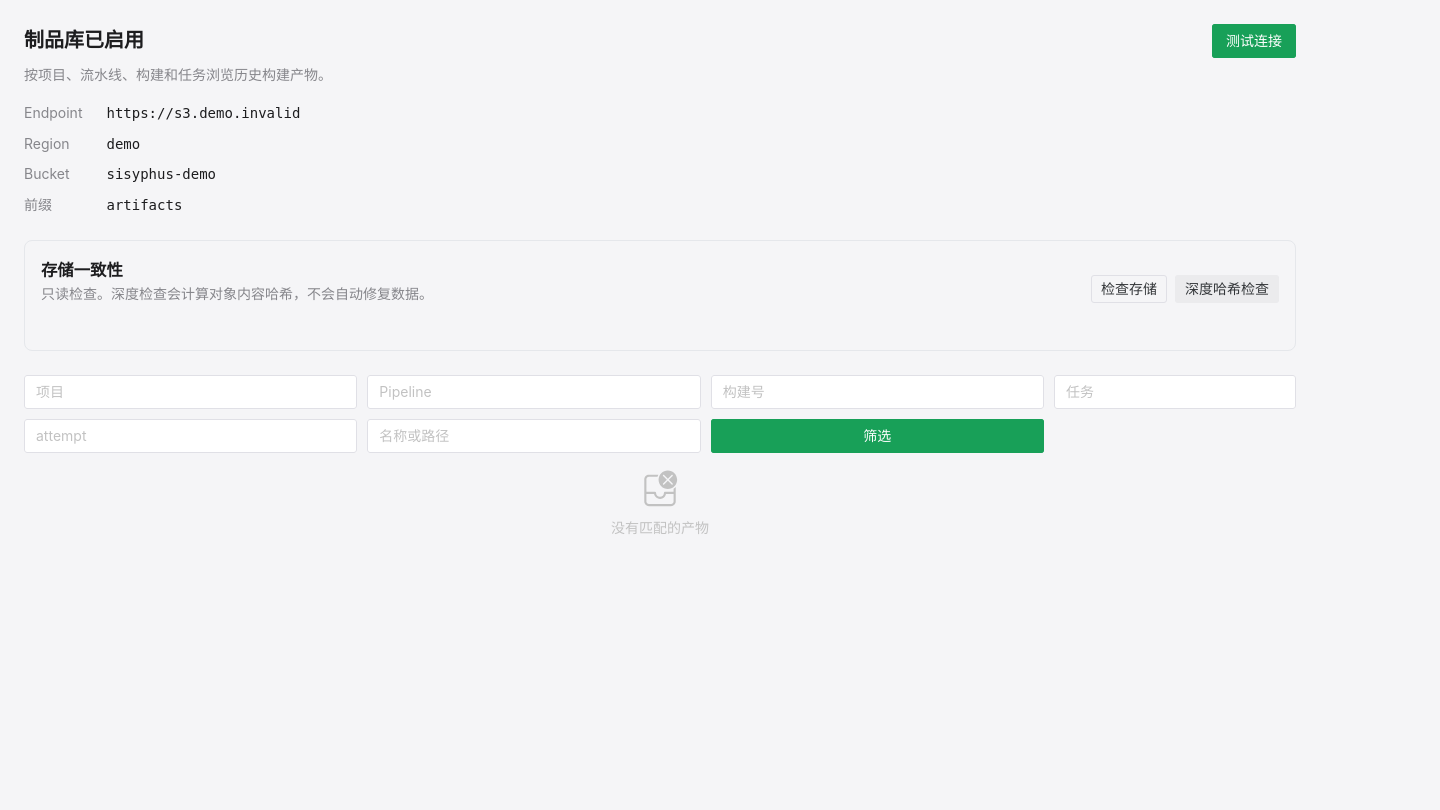
Test case: ArtifactRepositoryView 存储一致性检查（票 #143） › 检查失败时页面展示后端错误信息
The width and height of the screenshot is (1440, 810).
Expected: the element with test id "storage-consistency" is shown, left=24, top=240, right=1296, bottom=351
Click the button "检查存储" at [1129, 289], box left=1091, top=275, right=1167, bottom=303
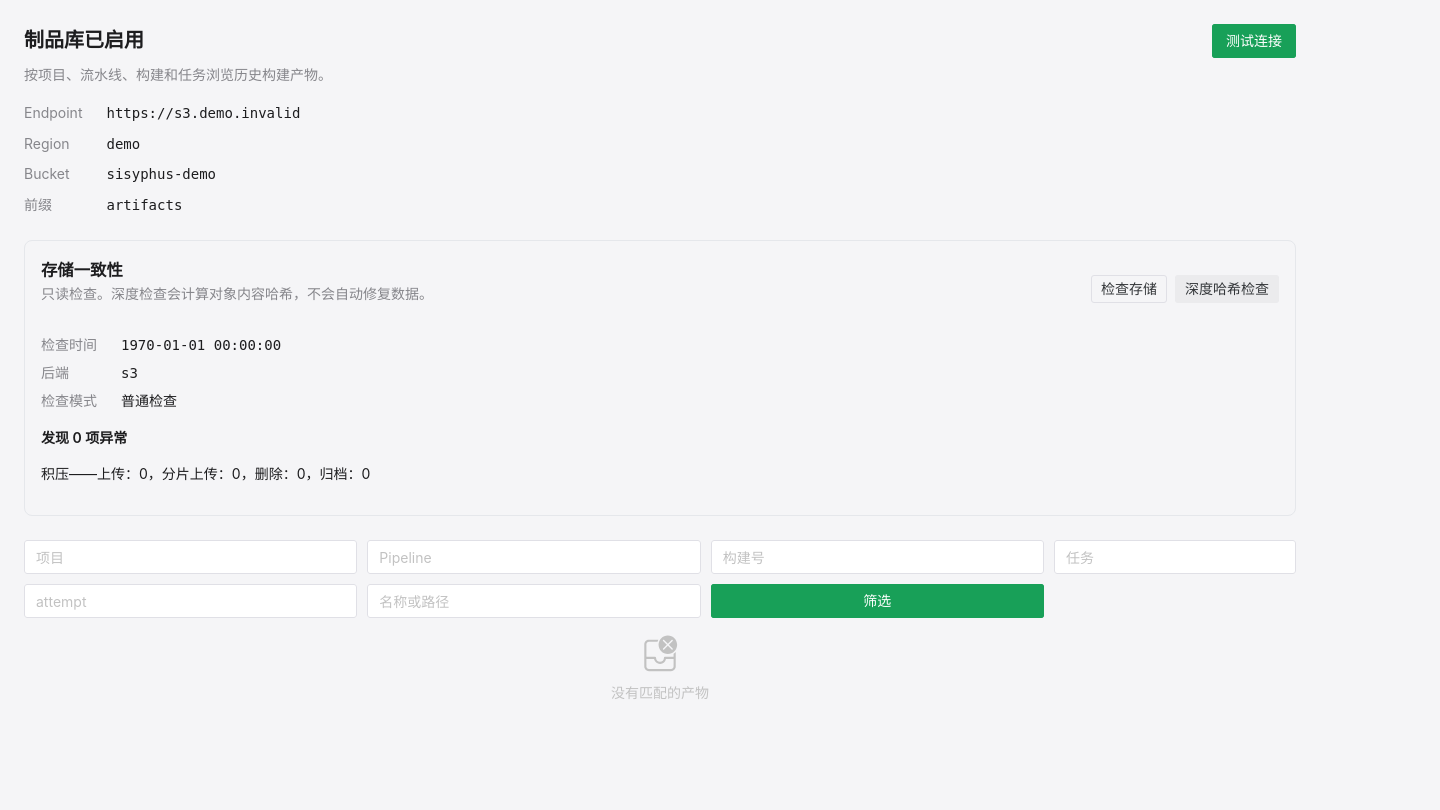
Expected: the element with test id "consistency-report" is shown, left=41, top=334, right=1279, bottom=413
Click the button "检查存储" at [1129, 289], box left=1091, top=275, right=1167, bottom=303
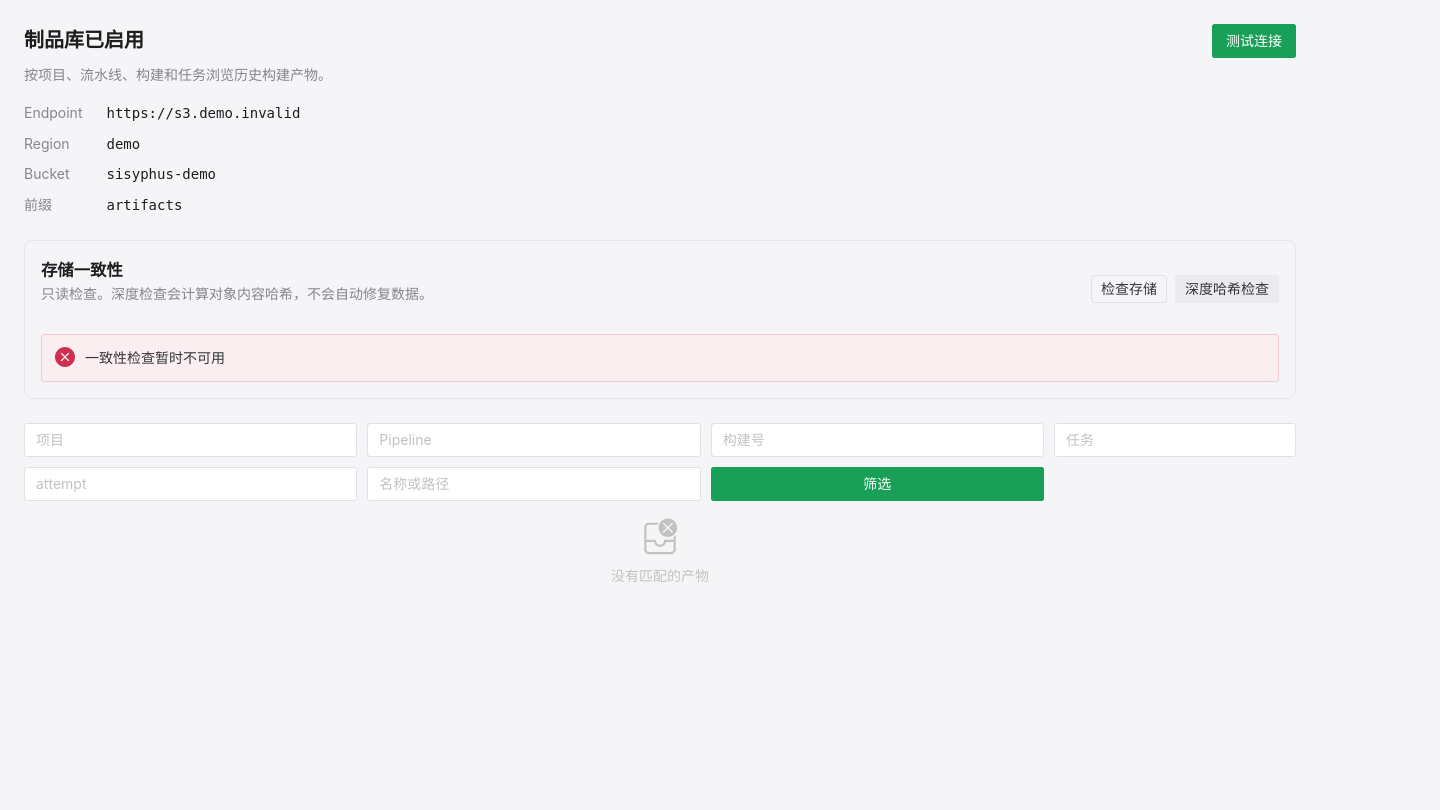
Expected: the element with test id "storage-consistency" shows "一致性检查暂时不可用", left=85, top=348, right=225, bottom=366
